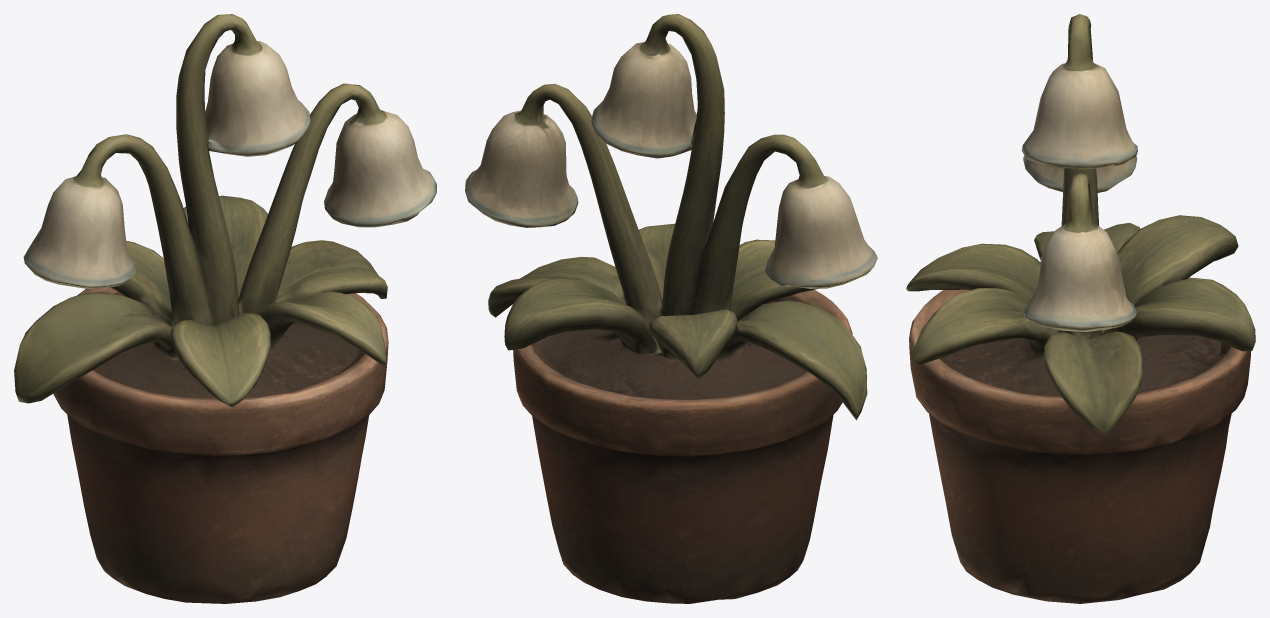
The model's file is Prop_GreenhousePotB.fbx.
The picture shows the model from 3 angles, left to right: view 1: azimuth 30°, elevation 25°; view 2: azimuth 150°, elevation 25°; view 3: azimuth 270°, elevation 25°; orthographic projection.
Visible parts, largest first — view 1: texture_mapping; view 2: texture_mapping; view 3: texture_mapping.
Boxes of the visible parts, x1=… form: texture_mapping: x1=14, y1=14, x2=436, y2=603; texture_mapping: x1=465, y1=14, x2=877, y2=603; texture_mapping: x1=906, y1=14, x2=1255, y2=603.
Bounding box in the file's own units: 0.7801 × 0.5886 × 1.
Materials: 1 (1 with a texture image).
